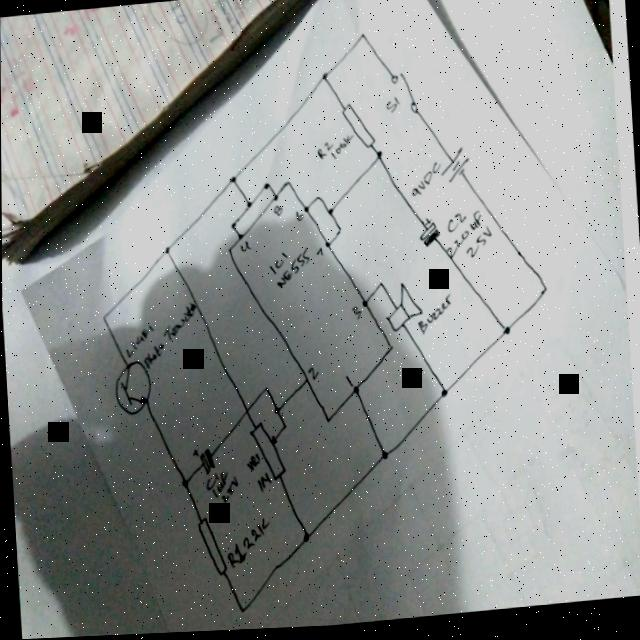capacitor: (414, 219, 441, 251), (189, 446, 215, 477)
crossover: (239, 404, 251, 421)
junction: (160, 245, 171, 256), (98, 313, 108, 325), (243, 200, 253, 212), (227, 175, 237, 186), (226, 222, 236, 233), (260, 182, 270, 193), (372, 152, 382, 162), (319, 74, 329, 84), (260, 385, 269, 396), (300, 534, 309, 545), (438, 390, 447, 401), (325, 207, 334, 218), (179, 479, 188, 489), (271, 407, 280, 417), (279, 424, 288, 434), (235, 606, 244, 616), (378, 452, 387, 462), (502, 329, 511, 339), (540, 288, 549, 298), (375, 281, 384, 291), (334, 227, 343, 237), (312, 195, 321, 205), (357, 32, 366, 42)
resistor: (246, 418, 286, 485), (194, 515, 226, 579), (340, 101, 375, 155)
source: (437, 147, 470, 190)
switch: (388, 71, 417, 119)
text: (140, 303, 200, 374), (442, 212, 493, 266), (223, 517, 272, 573), (267, 248, 311, 292), (414, 294, 453, 340), (203, 468, 238, 507), (120, 321, 154, 360), (408, 163, 440, 201), (314, 135, 354, 164), (243, 453, 259, 476), (255, 473, 270, 497), (384, 97, 399, 118), (305, 366, 319, 384), (237, 239, 251, 256), (272, 203, 283, 221), (349, 307, 360, 324), (342, 375, 352, 391), (293, 210, 303, 225), (313, 248, 324, 261)
transistor: (111, 355, 152, 418)
